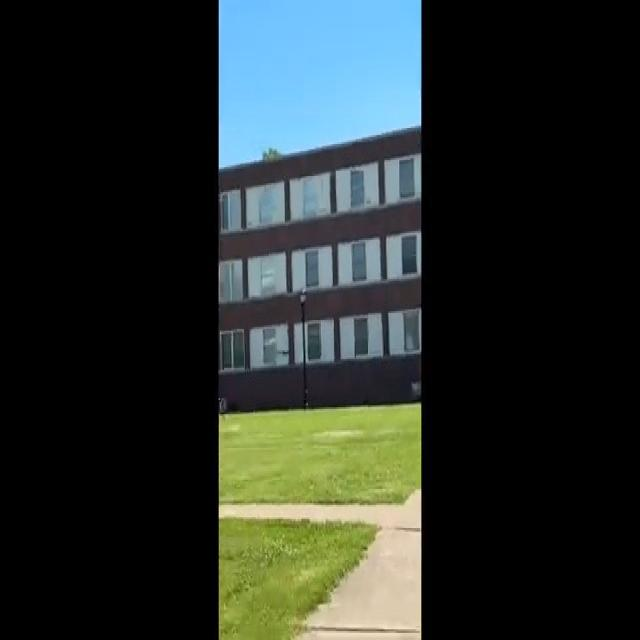drone: (270, 336, 297, 362)
